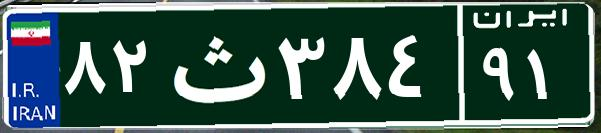1: (525, 38, 570, 115)
2: (110, 28, 158, 105)
3: (273, 28, 330, 110)
4: (385, 28, 445, 110)
8: (330, 28, 385, 110), (57, 26, 110, 107)
9: (475, 38, 525, 113)
ث: (158, 15, 273, 115)
